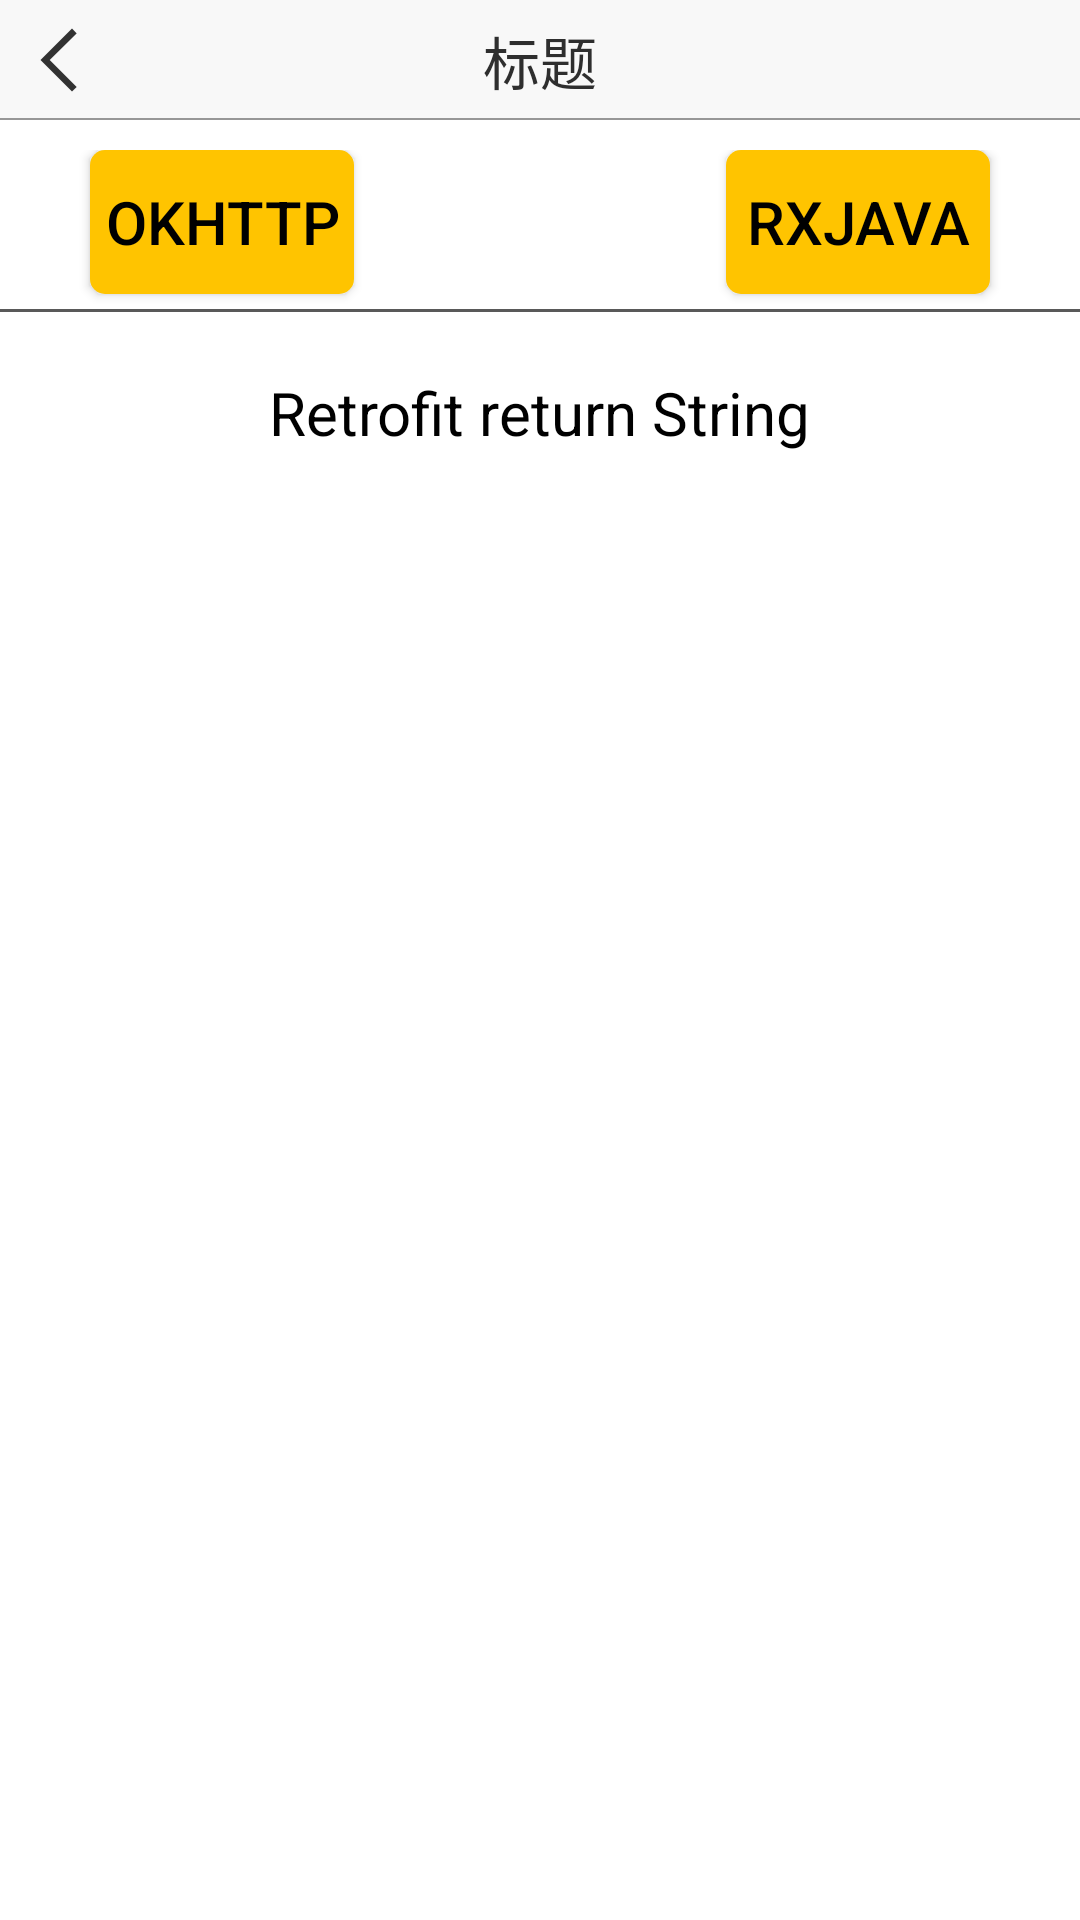

Screen size 1080w x 1920h. Icon name, then its box in pixels as (x1, y1, x2, y2):
back: (40, 28, 77, 92)
